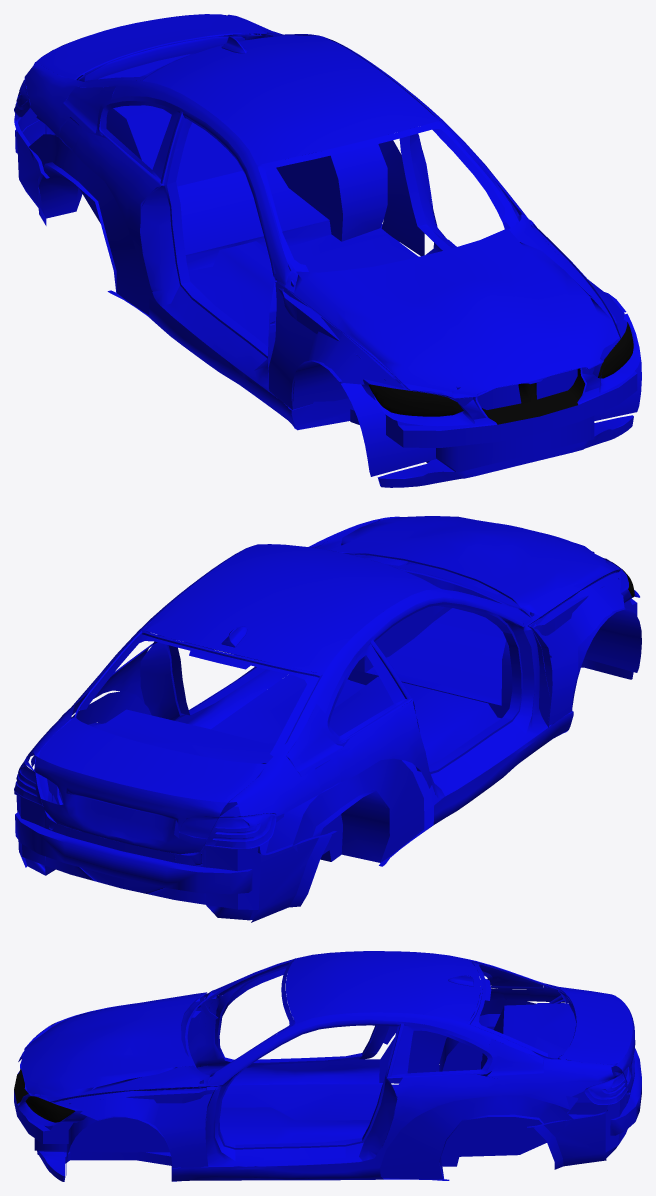
Rendered from bmwLod_base.fbx.
3 views of the same model, one above another, from view 1: azimuth 30°, elevation 25°; view 2: azimuth 150°, elevation 25°; view 3: azimuth 270°, elevation 25° (orthographic). The views are drawn at different scales.
Visible parts, largest first — view 1: polySurface60; view 2: polySurface60; view 3: polySurface60.
Boxes of the visible parts, x1,y1,x2,y2 form: polySurface60: [14, 14, 641, 487]; polySurface60: [14, 516, 641, 922]; polySurface60: [14, 951, 641, 1181].
Size of the model in its own units: 178 by 127 by 450.
